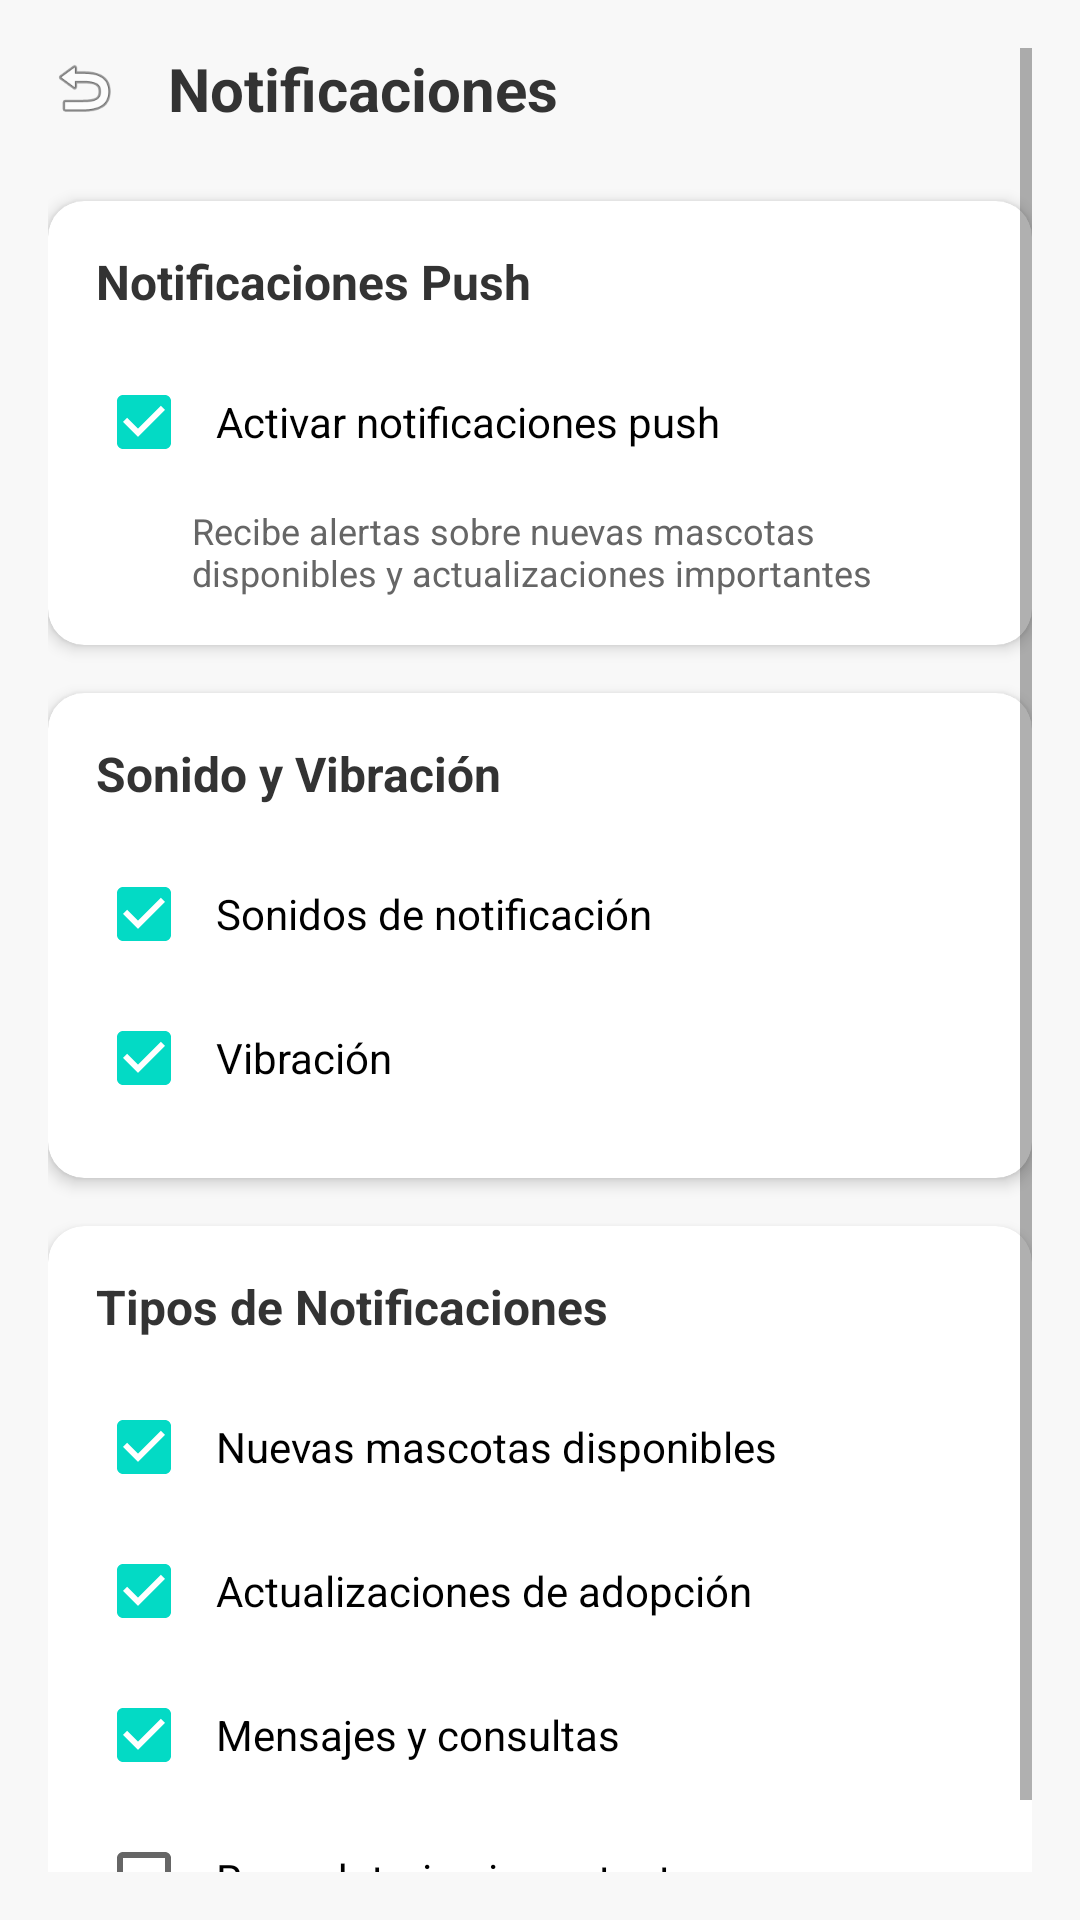

Screen size 1080px x 1920px. Icon name, then its center in pixels as (x=x, y=y):
revert: (x=85, y=88)
